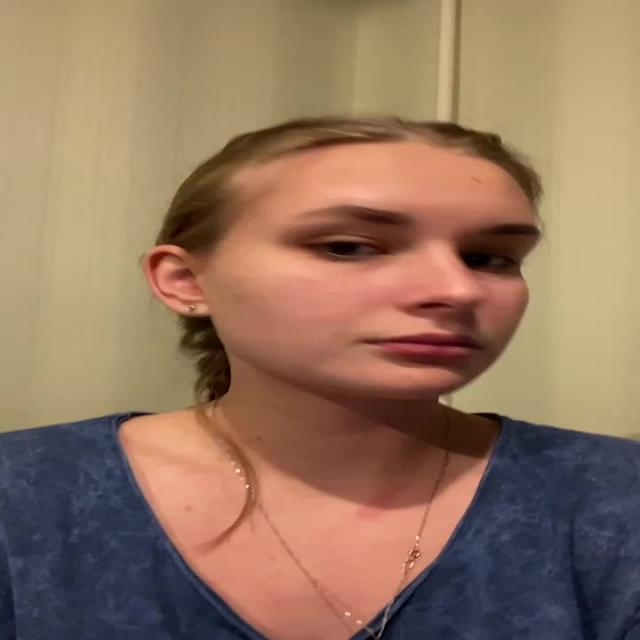earlobe: (142, 245, 214, 317)
